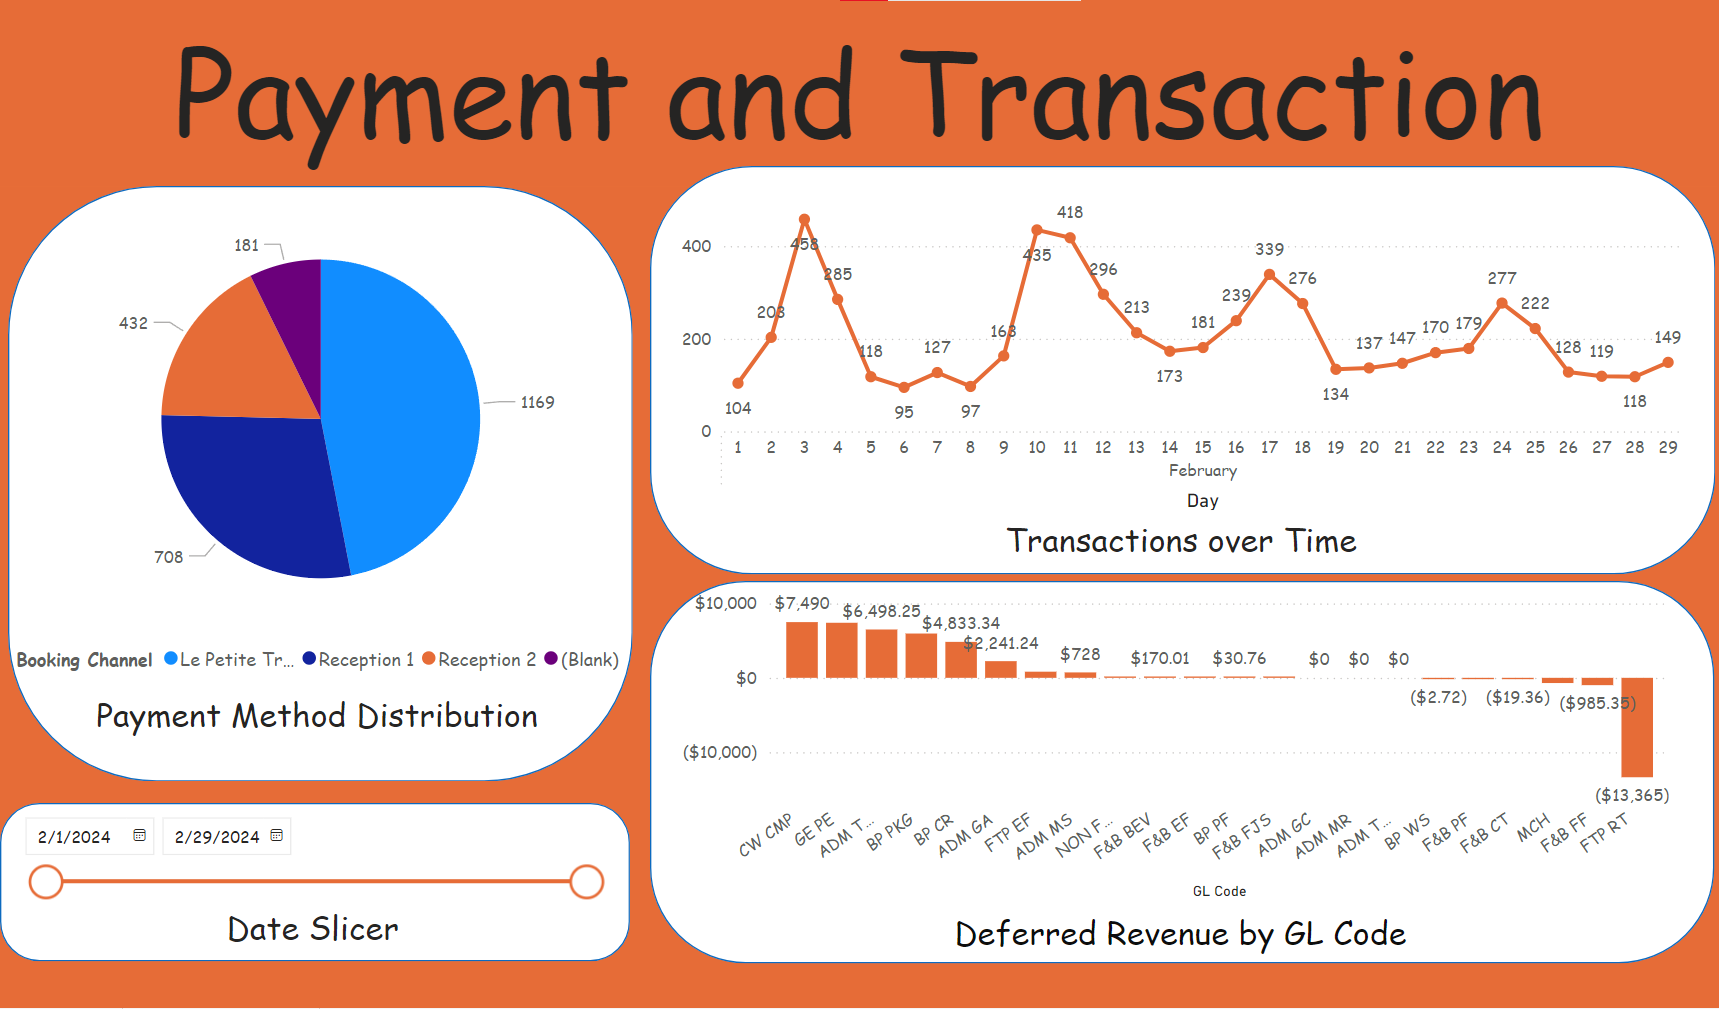

Layout of this report page (visuals, bound fields, positions):
{"tool":"powerbi","page":{"name":"Payment and Transaction Dashboard","canvas":[1280,720],"ordinal":2},"visuals":[{"type":"textbox","box":[0,0,1279.3,138.8],"z":0},{"type":"shape","box":[484,123.7,793.5,304.1],"z":0,"group":"g5"},{"type":"shape","box":[5.9,138.6,465.3,443.5],"z":0,"group":"g1"},{"type":"shape","box":[484,432.4,792.5,284.6],"z":0,"group":"g7"},{"type":"shape","box":[0,597.8,469.1,117.9],"z":0,"group":"g3"},{"type":"group","id":"g1","title":"Group 7","box":[5.9,138.6,465.2,443.4],"z":1000},{"type":"group","id":"g2","title":"Group 2","box":[484,123.7,793.7,303.8],"z":2000},{"type":"textbox","box":[505,380.1,748.9,47],"z":2000,"group":"g6"},{"type":"textbox","box":[13.8,510.4,443.9,56],"z":2000,"group":"g8"},{"type":"textbox","box":[122.1,668.4,221.3,46],"z":2000,"group":"g3"},{"type":"textbox","box":[505,672.4,748.1,43.9],"z":2000,"group":"g9"},{"type":"group","id":"g3","title":"Group 3","box":[0,597.8,469.1,117.8],"z":3000},{"type":"group","id":"g4","title":"Group 2","box":[484,428,792.5,289],"z":4000},{"type":"slicer","fields":{"Values":["Data.Record Date"]},"box":[6,598.3,452.2,79.3],"z":4000,"group":"g3"},{"type":"group","id":"g5","title":"Group 4","box":[484,123.7,793.7,303.8],"z":4001,"group":"g2"},{"type":"group","id":"g6","title":"Group 1","box":[505,380.1,748.9,47],"z":5000,"group":"g5"},{"type":"group","id":"g7","title":"Group 7","box":[484,432.4,792.5,284.6],"z":5000,"group":"g4"},{"type":"group","id":"g8","title":"Group 1","box":[13.8,510.4,443.9,58.3],"z":5000,"group":"g1"},{"type":"group","id":"g9","title":"Group 1","box":[505,672.4,748.1,43.9],"z":5000,"group":"g7"},{"type":"lineChart","fields":{"Y":["Data.Transaction Count"],"Category":["Data.Record Date.Variation.Date Hierarchy.Month","Data.Record Date.Variation.Date Hierarchy.Day"]},"box":[502.8,135.1,754.4,250.4],"z":6000,"group":"g5"},{"type":"clusteredColumnChart","fields":{"Category":["Data.GL Code"],"Y":["Data.Deferred Revenue by GL Code"]},"box":[502.6,428,745.3,245.7],"z":6000,"group":"g4"},{"type":"pieChart","fields":{"Y":["CountNonNull(Data.Transaction ID)"],"Category":["Data.Payment Device"]},"box":[8.3,143.5,461.3,365.8],"z":7000,"group":"g1"}]}

Visuals, with their boxes on the page's 1280x720 design canvas (x1, y1, x2, y2). These are canvas units, not pixel positions in the 1719x1009 screenshot, which may show the page scaled, cropped or inside an application window:
textbox: <box>0,0,1279,139</box>
shape: <box>484,124,1278,428</box>
shape: <box>6,139,471,582</box>
shape: <box>484,432,1276,717</box>
shape: <box>0,598,469,716</box>
"Group 7" group: <box>6,139,471,582</box>
"Group 2" group: <box>484,124,1278,428</box>
textbox: <box>505,380,1254,427</box>
textbox: <box>14,510,458,566</box>
textbox: <box>122,668,343,714</box>
textbox: <box>505,672,1253,716</box>
"Group 3" group: <box>0,598,469,716</box>
"Group 2" group: <box>484,428,1276,717</box>
slicer - Data.Record Date: <box>6,598,458,678</box>
"Group 4" group: <box>484,124,1278,428</box>
"Group 1" group: <box>505,380,1254,427</box>
"Group 7" group: <box>484,432,1276,717</box>
"Group 1" group: <box>14,510,458,569</box>
"Group 1" group: <box>505,672,1253,716</box>
lineChart - Data.Transaction Count x Data.Record Date.Variation.Date Hierarchy.Month: <box>503,135,1257,386</box>
clusteredColumnChart - Data.GL Code x Data.Deferred Revenue by GL Code: <box>503,428,1248,674</box>
pieChart - CountNonNull(Data.Transaction ID) x Data.Payment Device: <box>8,144,470,509</box>
